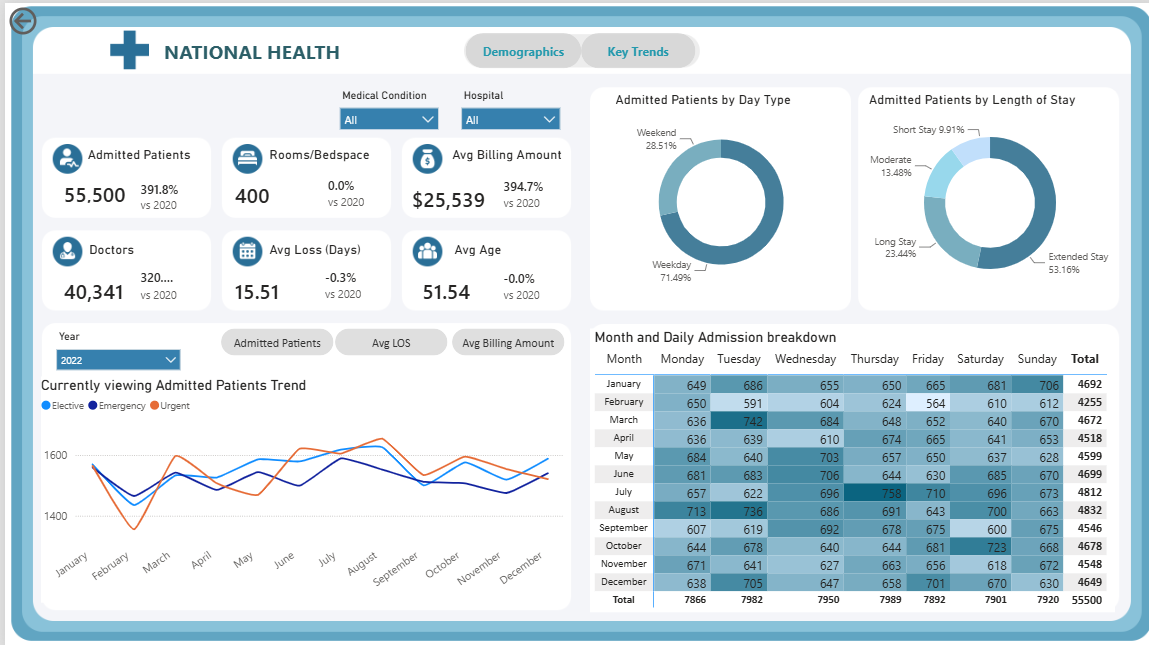

Layout of this report page (visuals, bound fields, positions):
{"tool":"powerbi","page":{"name":"Key Trends","canvas":[1280,720],"ordinal":1},"visuals":[{"type":"cardVisual","fields":{"Data":["Measure Table.Count of Patient ID % difference from 2020"]},"box":[125.7,186.2,103,60.6],"z":0,"group":"g1"},{"type":"pivotTable","title":"Month and Daily Admission breakdown","fields":{"Rows":["Data.Date of Admission.Variation.Date Hierarchy.Month"],"Values":["CountNonNull(Data.Patient ID)"],"Columns":["Data.weekday"]},"box":[650,361.7,583.3,315],"z":0},{"type":"actionButton","box":[240.8,361.9,125,30],"z":0,"group":"g3"},{"type":"actionButton","box":[0,0,100,40],"z":1000},{"type":"cardVisual","fields":{"Data":["Measure Table.Total beds % difference from 2020"]},"box":[334.7,183.2,104.5,56],"z":1000,"group":"g1"},{"type":"actionButton","box":[368,361.9,125,30],"z":1000,"group":"g3"},{"type":"donutChart","title":"Admitted Patients by Day Type","fields":{"Y":["CountNonNull(Data.Date of Admission)"],"Category":["Data.weekday (groups)"]},"box":[673.3,98.3,244,229],"z":2000},{"type":"cardVisual","title":"Doctors","fields":{"Data":["Measure Table.No. of Doctors"]},"box":[40.9,265,159,80.3],"z":2000,"group":"g1"},{"type":"actionButton","box":[498.2,361.9,125,30],"z":2000,"group":"g3"},{"type":"donutChart","title":"Admitted Patients by Length of Stay","fields":{"Category":["Data.LOS (groups)"],"Y":["CountNonNull(Data.Patient ID)"]},"box":[955,98.3,278.3,231],"z":3000},{"type":"cardVisual","fields":{"Data":["Measure Table.No. of Doctors % difference from 2020"]},"box":[125.7,286.2,89.3,57.5],"z":3000,"group":"g1"},{"type":"cardVisual","fields":{"Data":["Measure Table.Avg of LOS % difference from 2020"]},"box":[330.1,281.6,92.4,63.6],"z":4000,"group":"g1"},{"type":"lineChart","title":"Currently viewing Admitted Patients Trend","fields":{"Category":["Data.Date of Admission.Variation.Date Hierarchy.Month"],"Y":["Data.nO OF PATIENTS"],"Series":["Data.Admission Type"]},"box":[39.4,414.9,581.5,251.4],"z":4000},{"type":"group","id":"g1","title":"Group 2","box":[40.9,160.5,583,186.2],"z":5000},{"type":"group","id":"g2","title":"Group 3","box":[511.8,33.3,255.9,39.4],"z":6000},{"type":"cardVisual","fields":{"Data":["Measure Table.Sum of Billing Amount % difference from 2020 2"]},"box":[528.5,183.2,93.9,57.5],"z":6000,"group":"g1"},{"type":"slicer","fields":{"Values":["Data.Medical Condition"]},"box":[366.4,95.4,120,45],"z":7000},{"type":"cardVisual","fields":{"Data":["Measure Table.avg age % difference from 2020"]},"box":[528.5,281.6,95.4,65.1],"z":7000,"group":"g1"},{"type":"slicer","fields":{"Values":["Data.Hospital"]},"box":[501.7,95,120,45],"z":8000},{"type":"cardVisual","title":"Avg Billing Amount","fields":{"Data":["Avg(Data.Billing Amount)"]},"box":[427,160.5,195.3,86.3],"z":8000,"group":"g1"},{"type":"cardVisual","title":"Rooms/Bedspace","fields":{"Data":["Measure Table.Total beds"]},"box":[230.2,160.5,178.7,78.7],"z":11000,"group":"g1"},{"type":"group","id":"g3","title":"Group 1","box":[240.8,361.9,383.1,30.3],"z":11000},{"type":"cardVisual","title":"Avg Loss (Days)","fields":{"Data":["Measure Table.Avg of LOS"]},"box":[230.2,265,168.1,80.3],"z":12000,"group":"g1"},{"type":"slicer","fields":{"Values":["Calendar.Year"]},"box":[51.5,363.4,148.4,48.5],"z":12000},{"type":"textbox","box":[171.1,33.3,230.2,42.4],"z":13000},{"type":"cardVisual","title":"Avg Age","fields":{"Data":["Measure Table.avg age"]},"box":[439.1,265,116.6,80.3],"z":13000,"group":"g1"},{"type":"cardVisual","title":"Admitted Patients","fields":{"Data":["CountNonNull(Data.Patient ID)"]},"box":[40.9,160.5,169.6,74.2],"z":14000,"group":"g1"},{"type":"actionButton","box":[511.8,33.3,128.7,39.4],"z":20000,"group":"g2"},{"type":"actionButton","box":[640.5,33.3,127.2,39.4],"z":21000,"group":"g2"}]}

Visuals, with their boxes in screenshot pixels (x1, y1, x2, y2), scaled from the page's 1280x720 canvas onto the 1149x645 screenshot:
cardVisual - Measure Table.Count of Patient ID % difference from 2020: region(113, 167, 205, 221)
"Month and Daily Admission breakdown" pivotTable: region(583, 324, 1107, 606)
actionButton: region(216, 324, 328, 351)
actionButton: region(0, 0, 90, 36)
cardVisual - Measure Table.Total beds % difference from 2020: region(300, 164, 394, 214)
actionButton: region(330, 324, 443, 351)
"Admitted Patients by Day Type" donutChart: region(604, 88, 823, 293)
"Doctors" cardVisual: region(37, 237, 179, 309)
actionButton: region(447, 324, 559, 351)
"Admitted Patients by Length of Stay" donutChart: region(857, 88, 1107, 295)
cardVisual - Measure Table.No. of Doctors % difference from 2020: region(113, 256, 193, 308)
cardVisual - Measure Table.Avg of LOS % difference from 2020: region(296, 252, 379, 309)
"Currently viewing Admitted Patients Trend" lineChart: region(35, 372, 557, 597)
"Group 2" group: region(37, 144, 560, 311)
"Group 3" group: region(459, 30, 689, 65)
cardVisual - Measure Table.Sum of Billing Amount % difference from 2020 2: region(474, 164, 559, 216)
slicer - Data.Medical Condition: region(329, 85, 437, 126)
cardVisual - Measure Table.avg age % difference from 2020: region(474, 252, 560, 311)
slicer - Data.Hospital: region(450, 85, 558, 125)
"Avg Billing Amount" cardVisual: region(383, 144, 559, 221)
"Rooms/Bedspace" cardVisual: region(207, 144, 367, 214)
"Group 1" group: region(216, 324, 560, 351)
"Avg Loss (Days)" cardVisual: region(207, 237, 358, 309)
slicer - Calendar.Year: region(46, 326, 179, 369)
textbox: region(154, 30, 360, 68)
"Avg Age" cardVisual: region(394, 237, 499, 309)
"Admitted Patients" cardVisual: region(37, 144, 189, 210)
actionButton: region(459, 30, 575, 65)
actionButton: region(575, 30, 689, 65)
